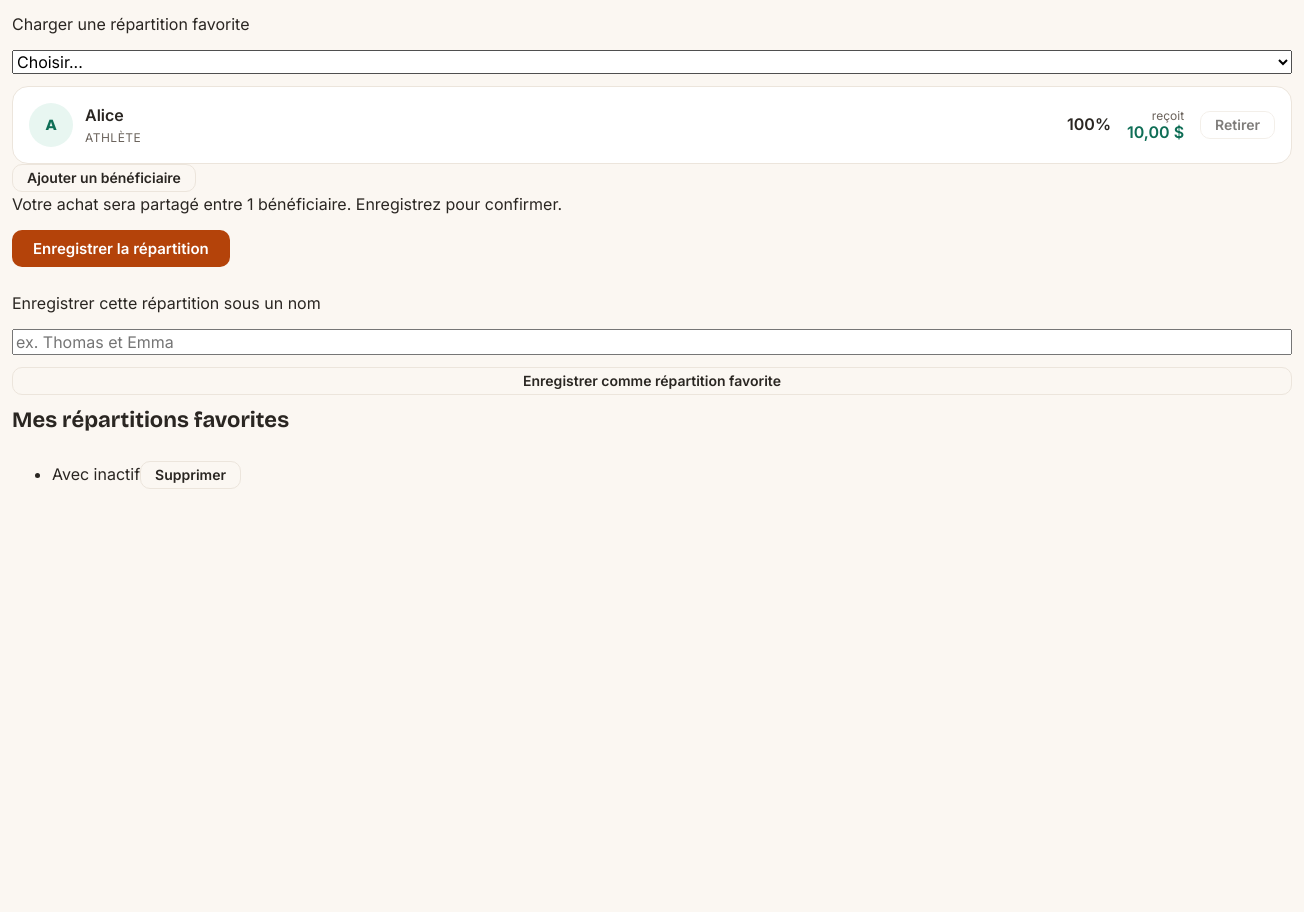
BeneficiarySplit › appliquer une répartition favorite référençant un bénéficiaire inactif affiche un avertissement
The image size is (1304, 912).
Select "Avec inactif" in the dropdown labelled "Charger une répartition favorite" at [652, 62], box [12,50,1292,74]
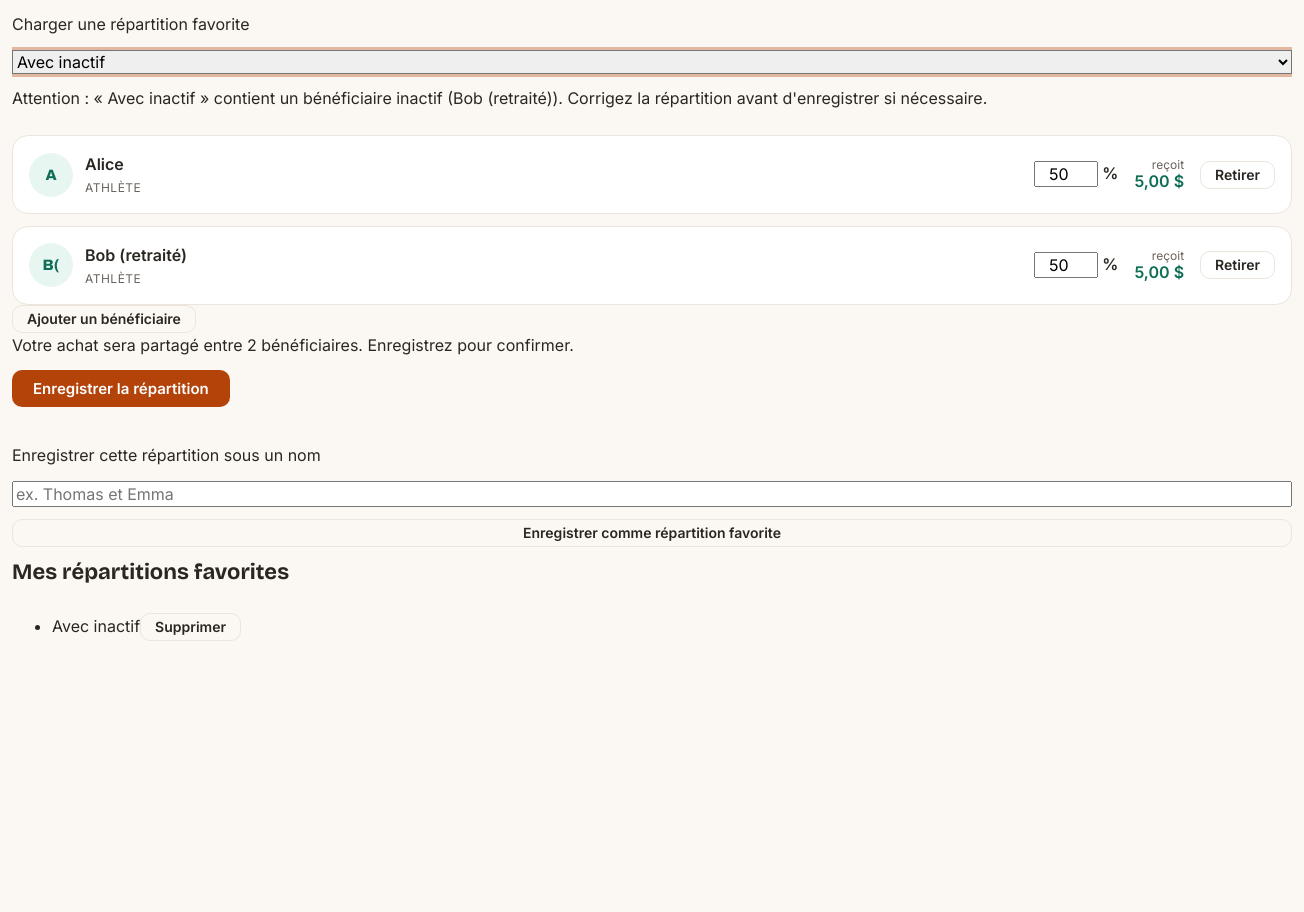
Result: the message shows "Bob (retraité)" at [12,88,987,108]
